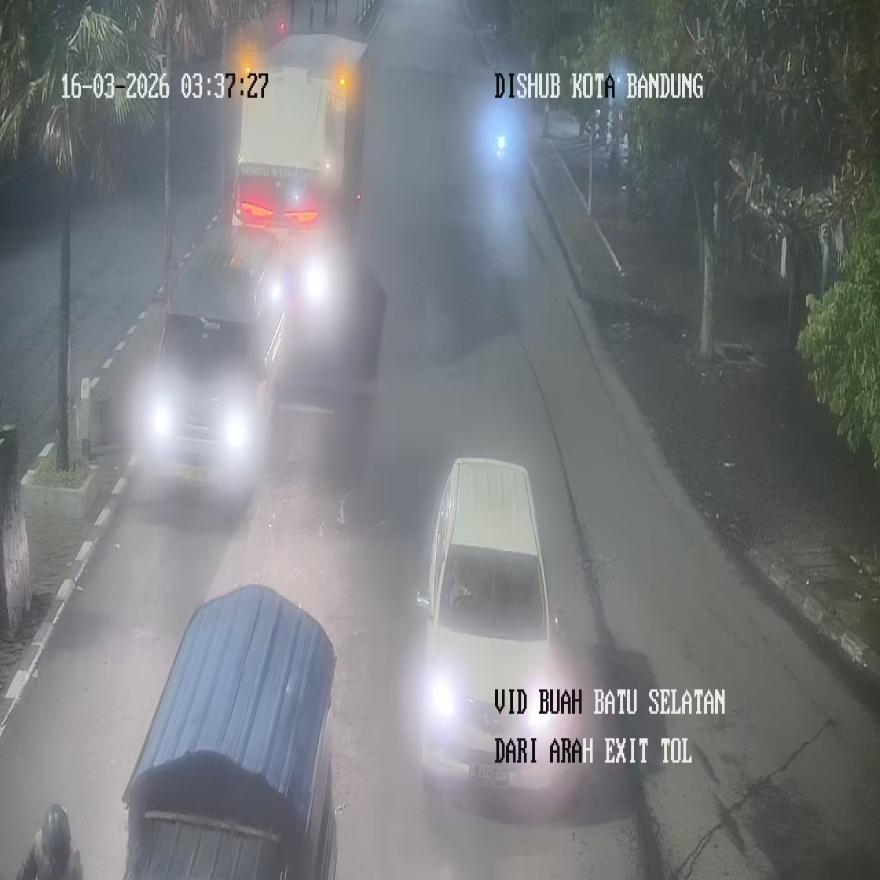Motor: (121, 584, 339, 878), (416, 457, 567, 801), (140, 226, 288, 502)
